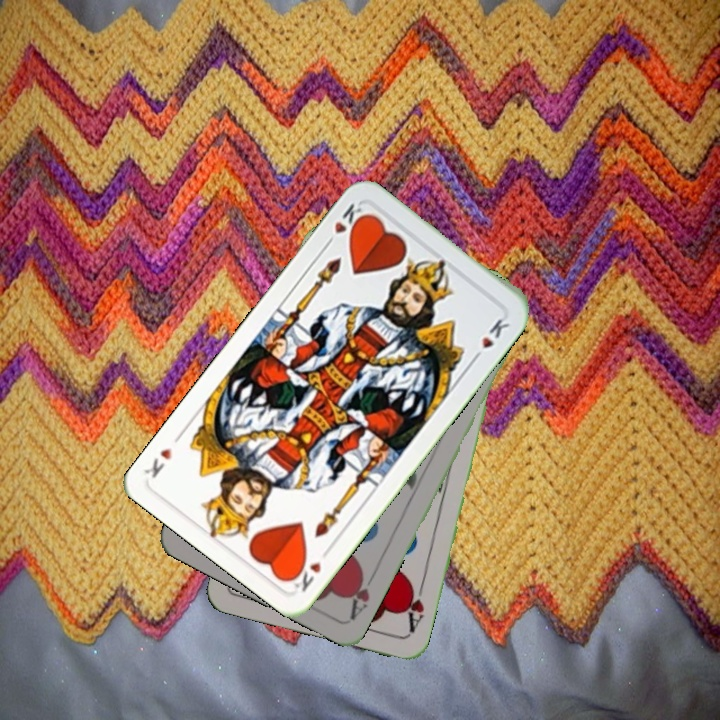HA: (344, 565, 373, 622), (400, 577, 427, 636)
HK: (320, 199, 369, 250), (286, 543, 334, 595)
